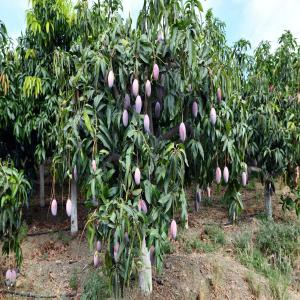Tree: (76, 6, 236, 292), (49, 6, 109, 252), (11, 3, 69, 235), (247, 27, 299, 229)
